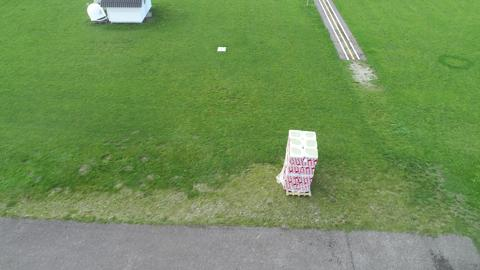RockwoolPallet: (282, 126, 318, 200)
